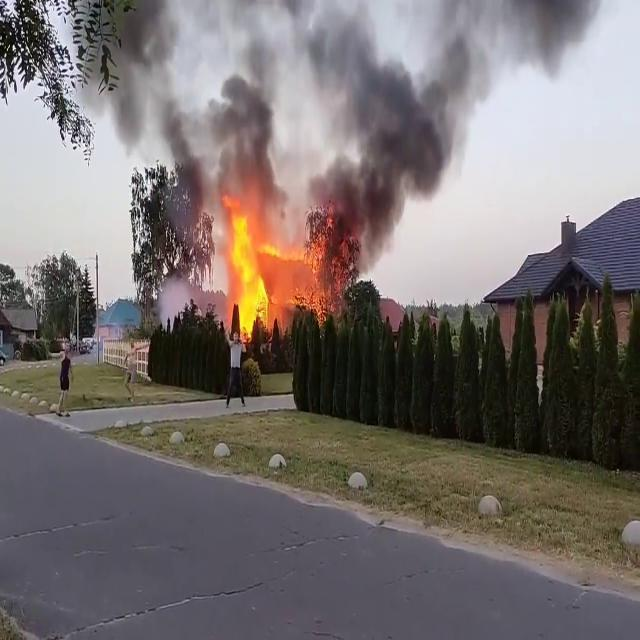Fire: (215, 202, 306, 338)
Smoke: (299, 1, 487, 259), (100, 0, 296, 206)
